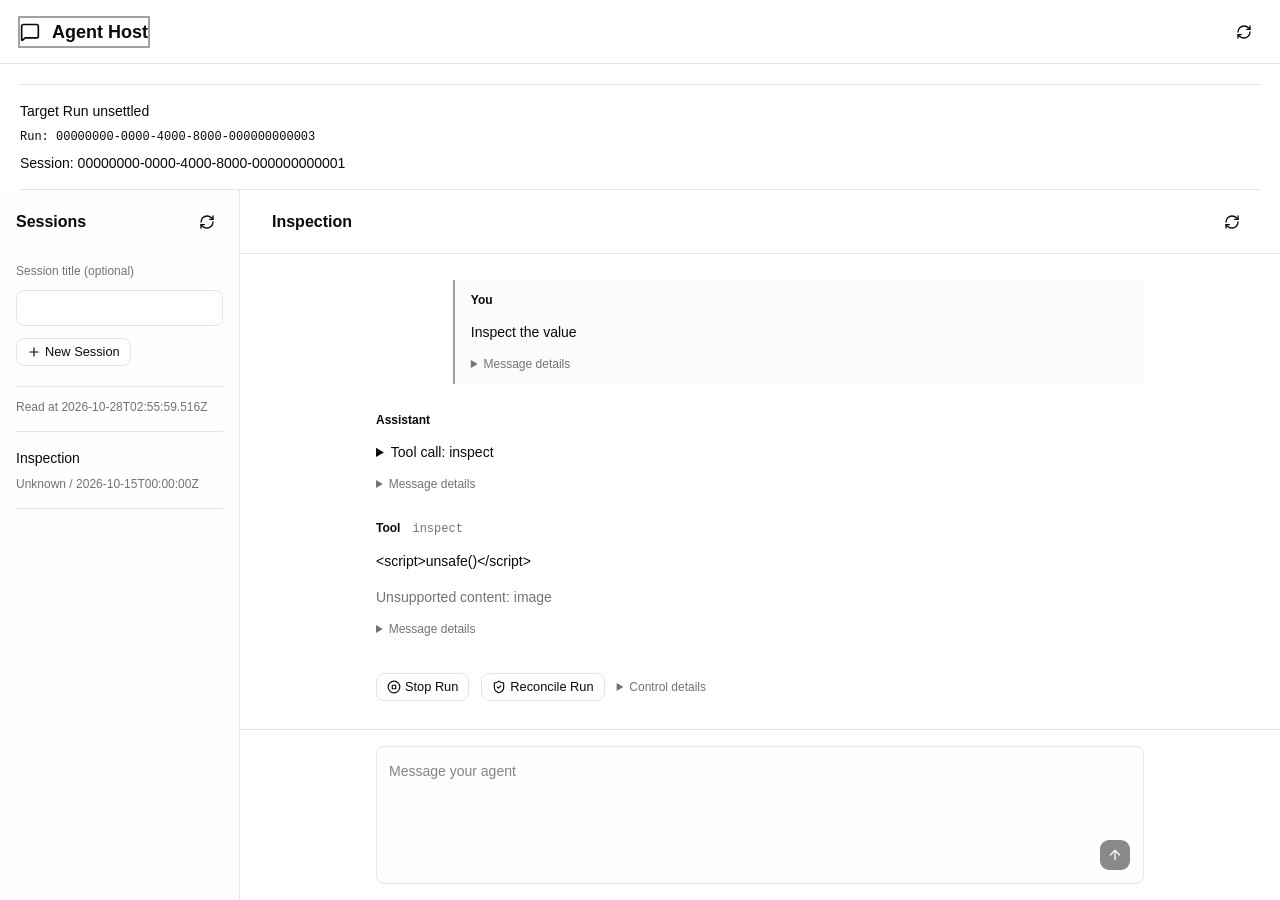
Scenario: Agent Host Session browsing › keeps unknown output locked through false reconciliation and requires fresh metadata after settlement
The width and height of the screenshot is (1280, 900).
(page scrolled)
Step 1. Type "Next turn" into the text box named "New input" → [760, 795], box [389,759,1131,831]
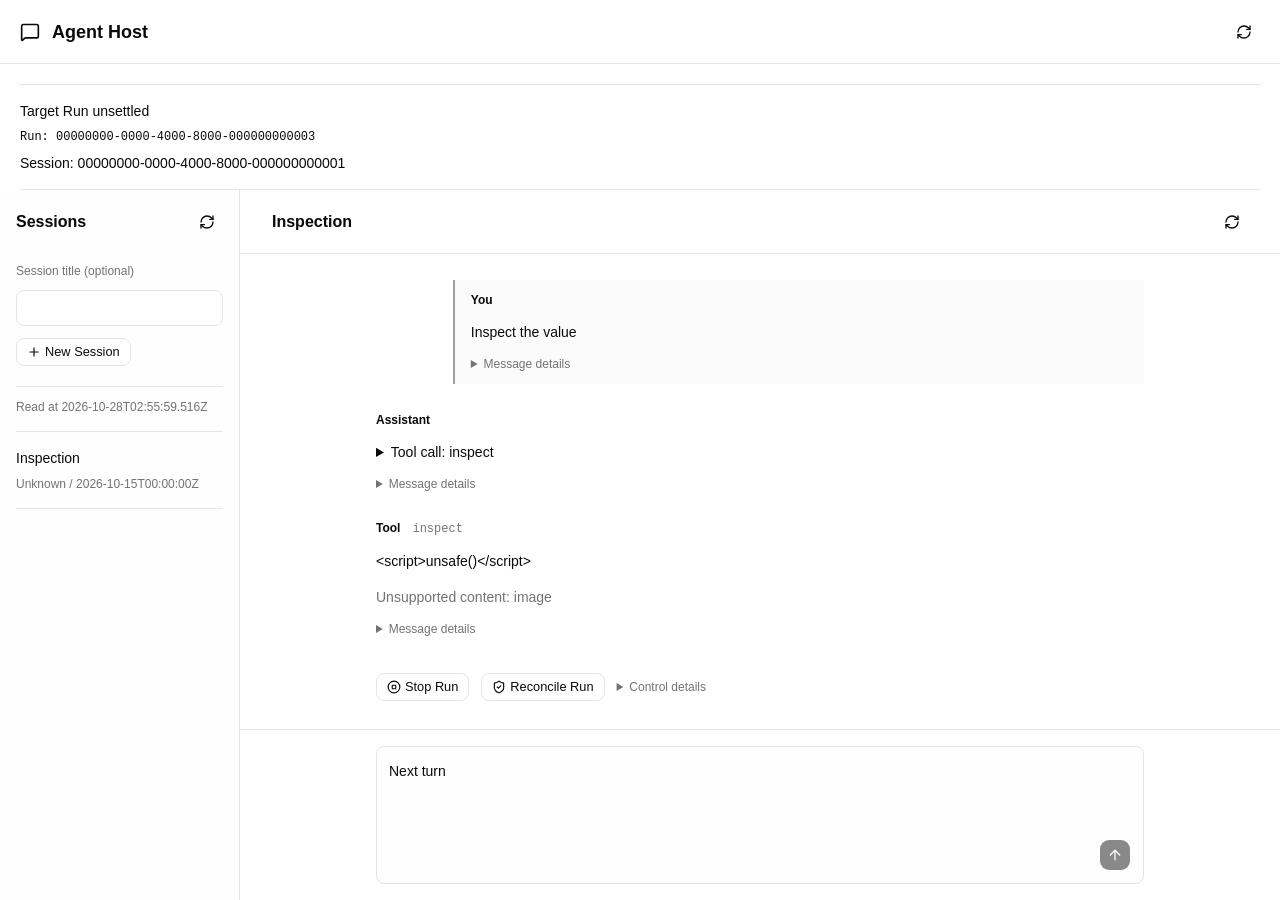
Step 2. Click the button "Reconcile Run" → [543, 687], box [481,673,605,701]
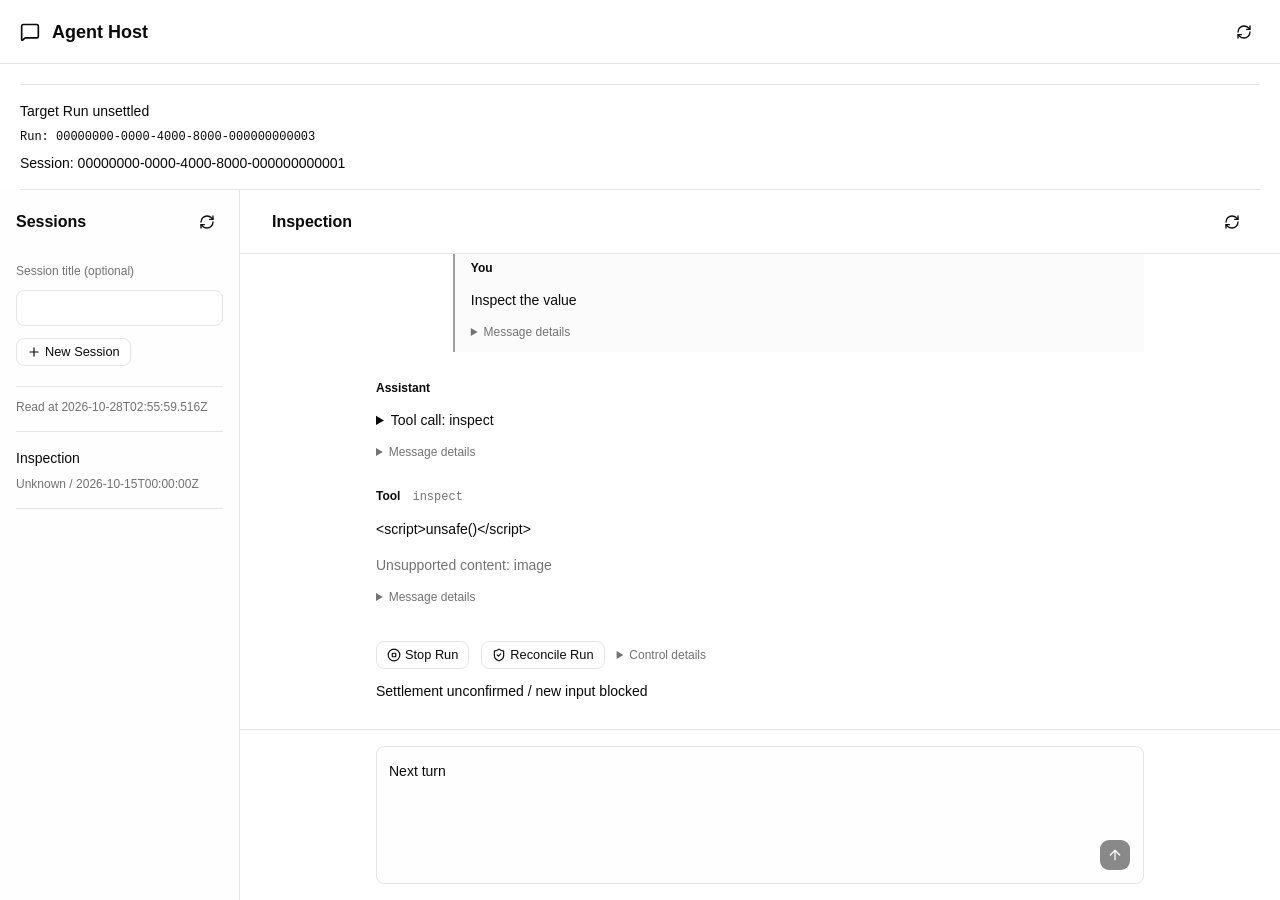
Expected: the button named "Send input" is disabled, [1099,839,1131,871]
Now the text "Settlement unconfirmed / new input blocked" is shown, box [376,683,648,699]
Step 3. Click the button "Reconcile Run" → [543, 655], box [481,641,605,669]
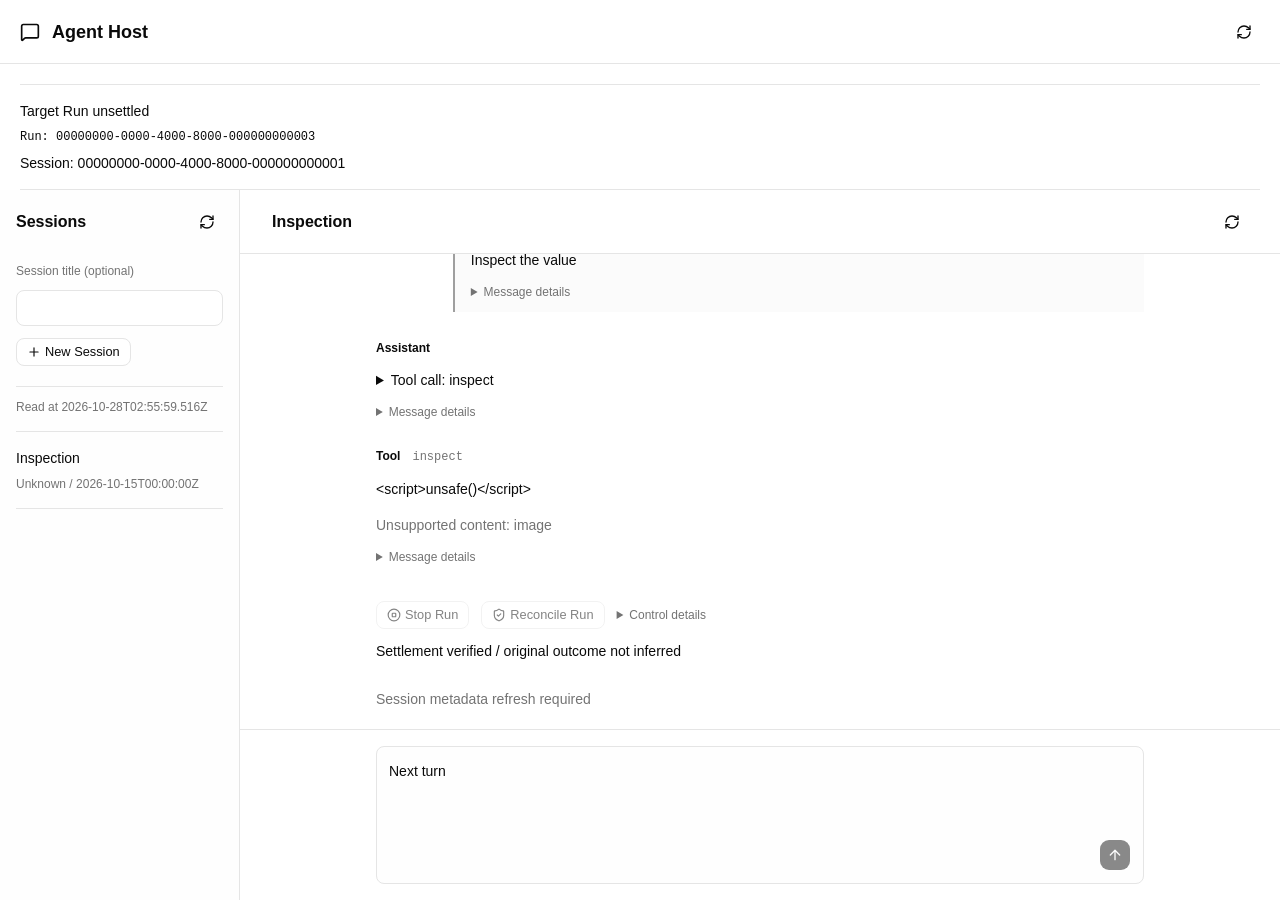
Expected: the button named "Send input" is disabled, [1099,839,1131,871]
Now the text "Settlement verified / original outcome not inferred" is shown, box [376,643,681,659]
Step 4. Click the button named "Refresh Session" → [1232, 222], box [1216,206,1248,238]
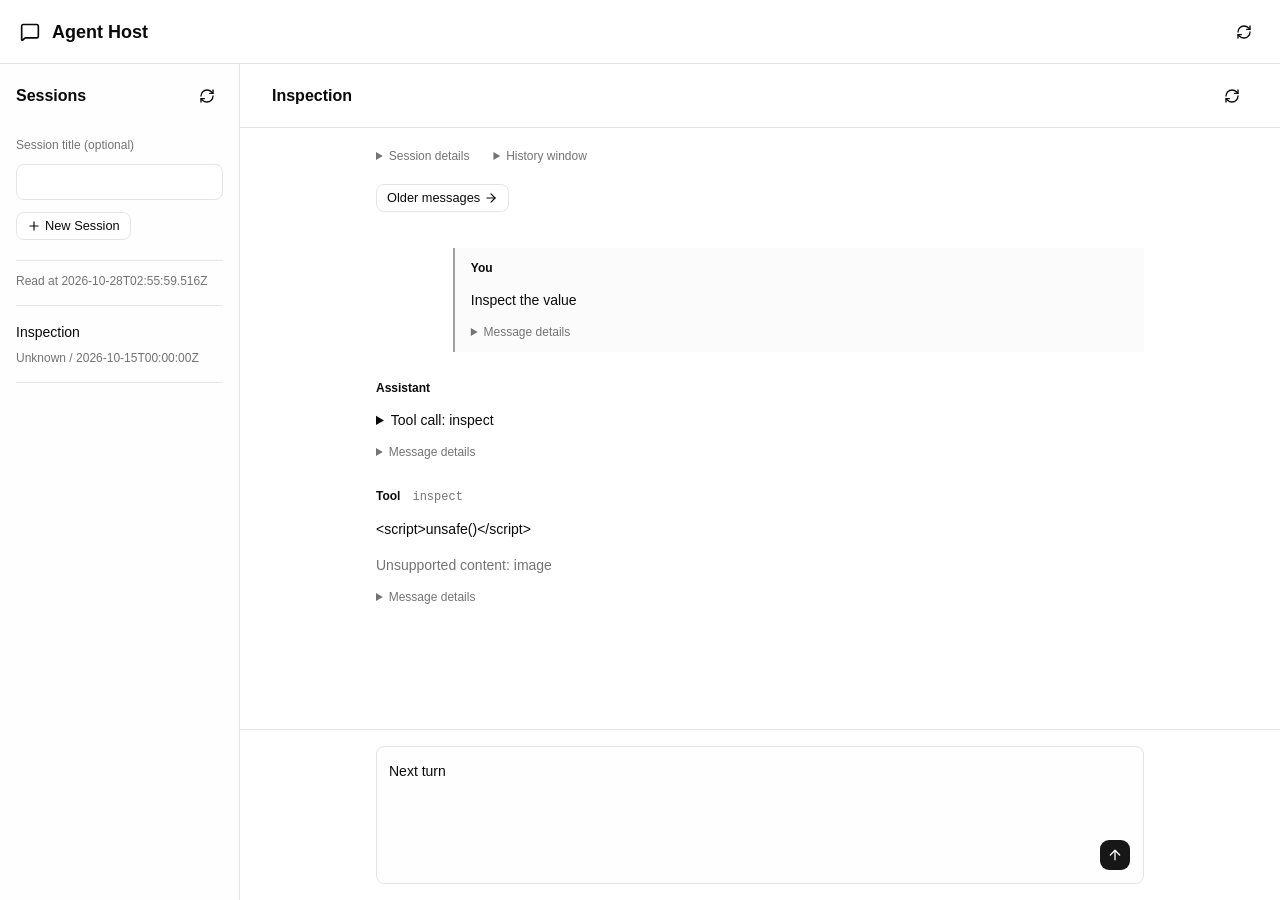
Now the button named "Send input" is enabled
Step 5. Click the button named "Send input" → [1115, 855], box [1099,839,1131,871]
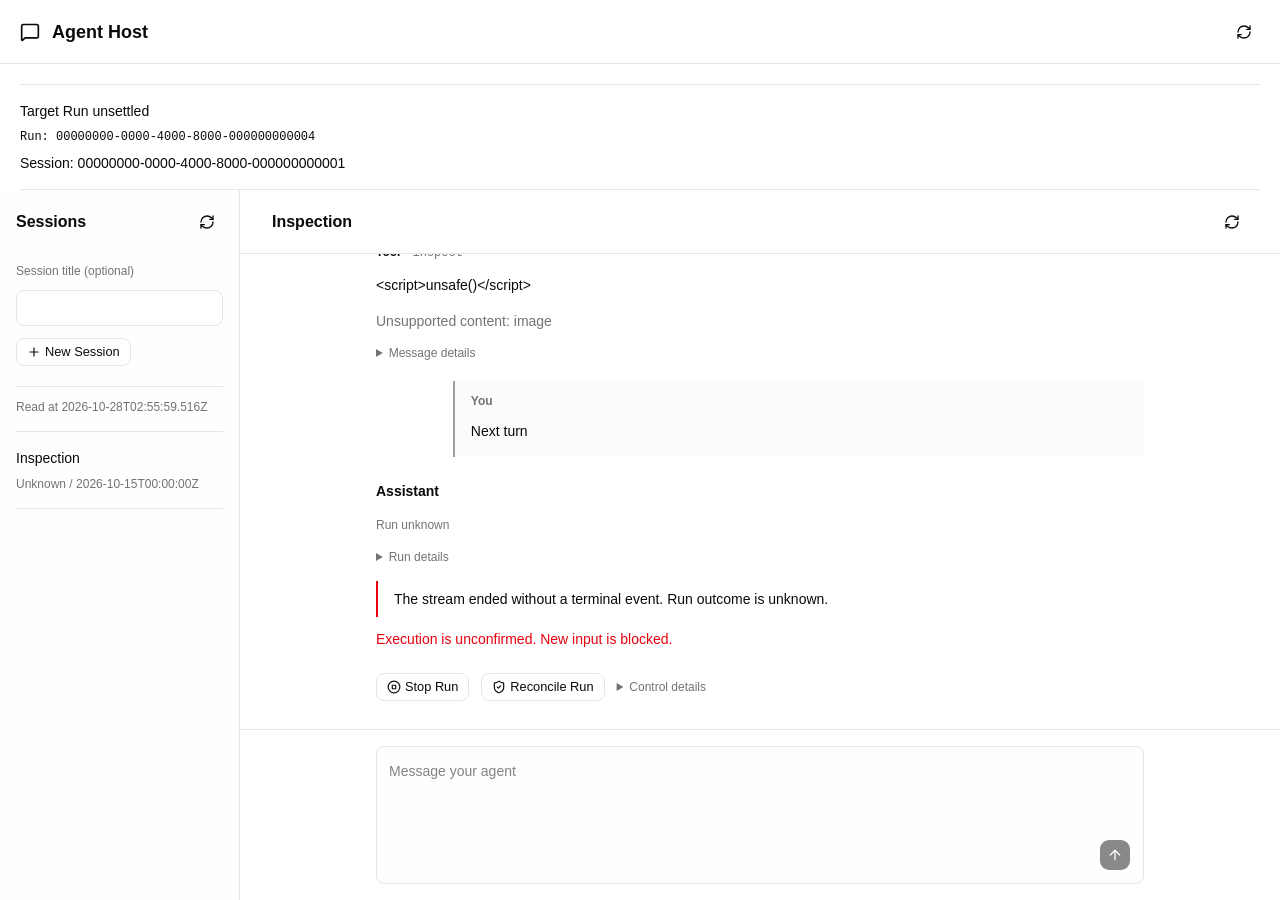
Now the text "Run unknown" is shown, box [376,518,449,532]
Now the button named "Send input" is disabled, box [1099,839,1131,871]
Step 6. Click the button "Reconcile Run" → [543, 687], box [481,673,605,701]
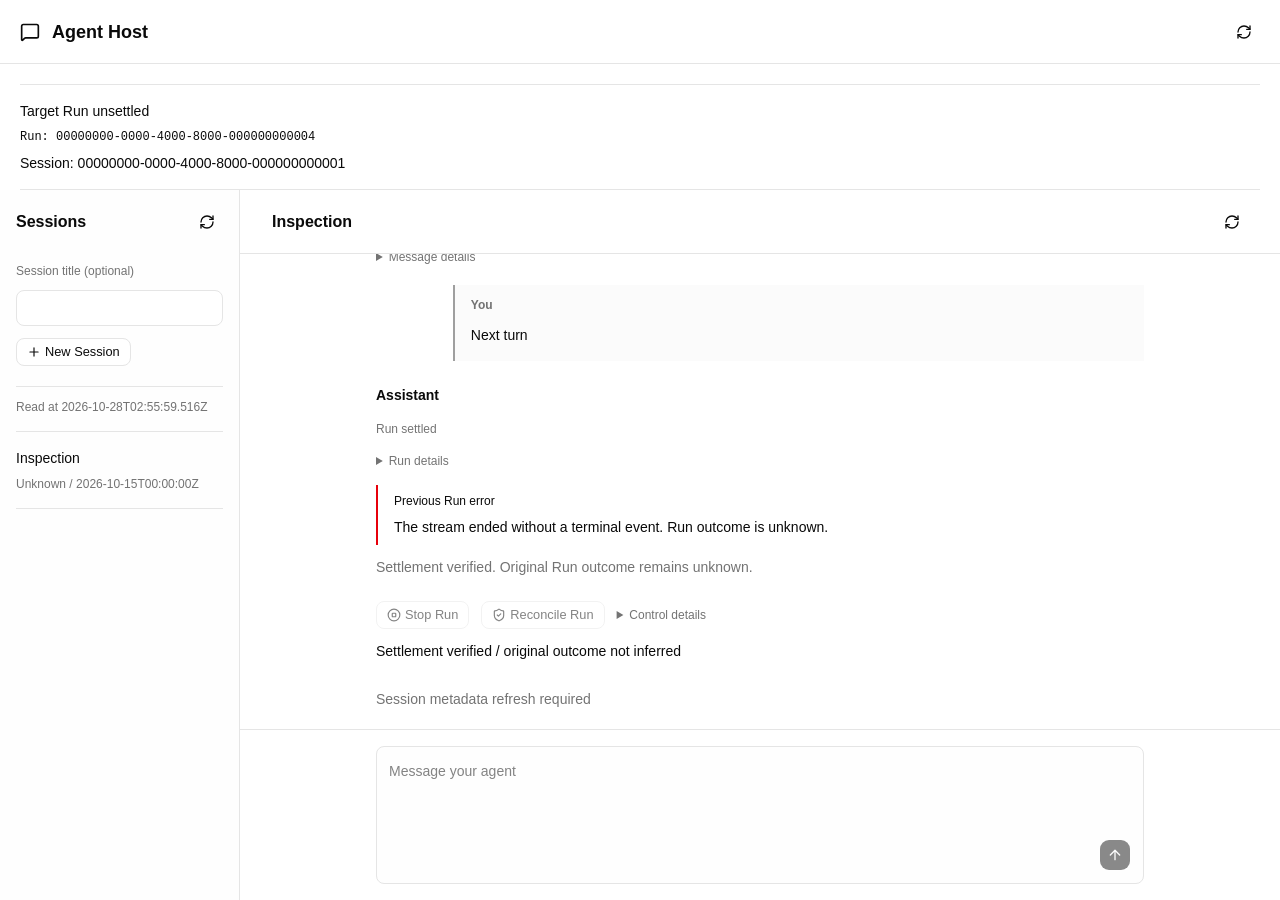
Now the text "Run settled" is shown, box [376,422,437,436]
Now the text "Settlement verified. Original Run outcome remains unknown." is shown, box [376,559,753,575]
